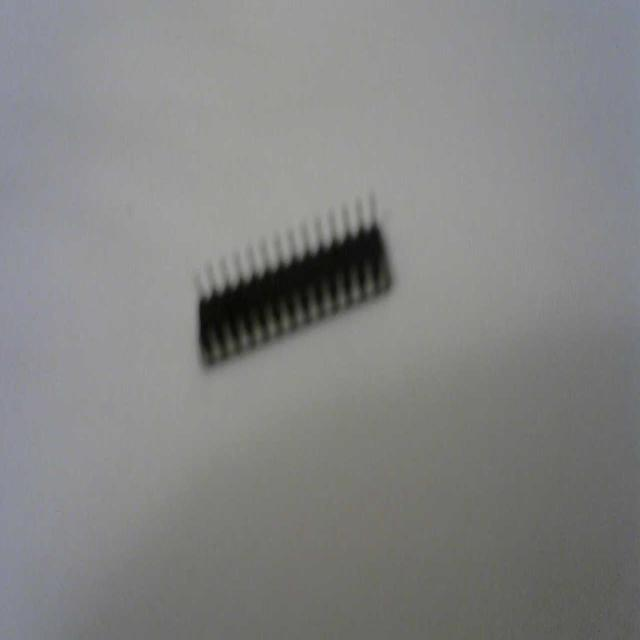atmega: (193, 186, 395, 372)
